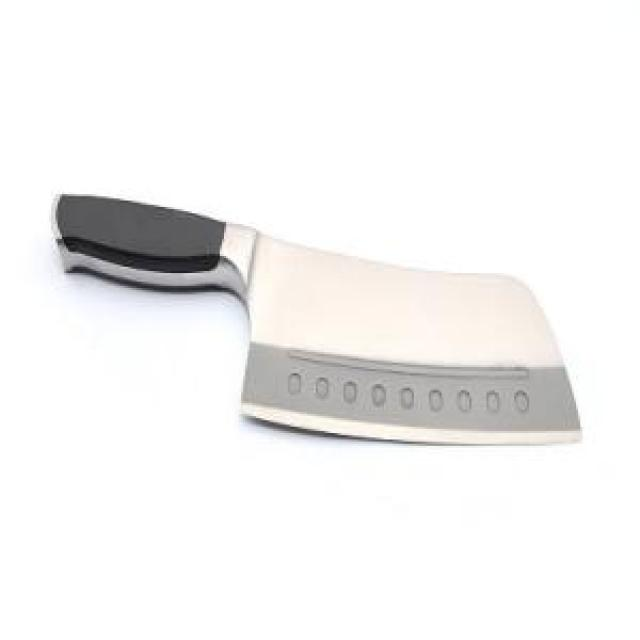knife: (51, 192, 584, 446)
